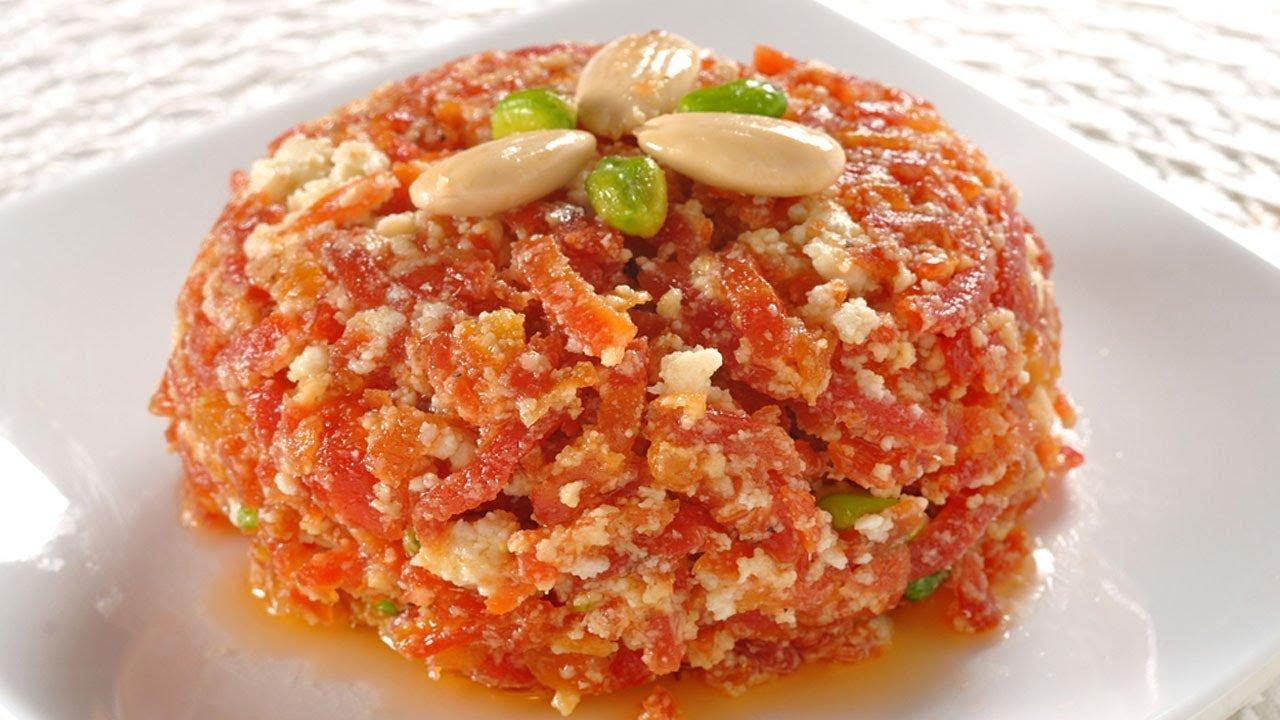Gajar ka halwa: (114, 27, 1116, 716)
